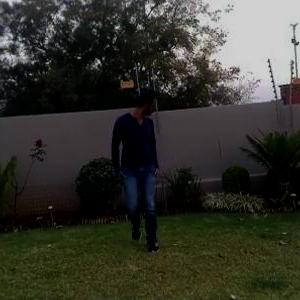follow: (113, 81, 172, 268)
